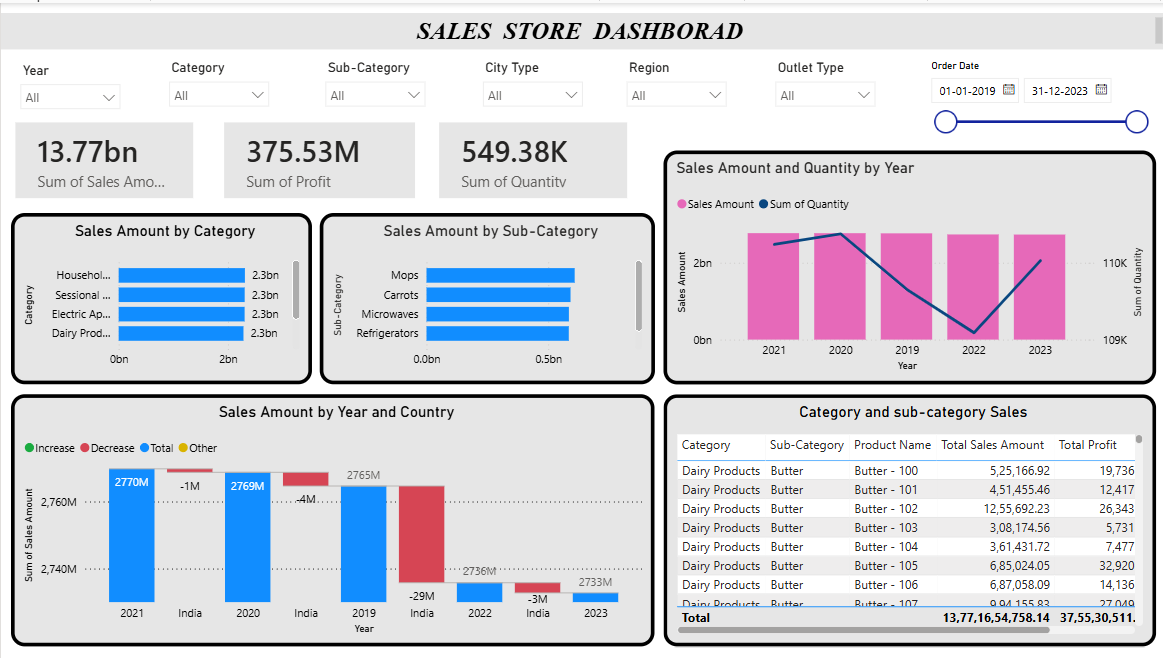

Layout of this report page (visuals, bound fields, positions):
{"tool":"powerbi","page":{"name":"Page 1","canvas":[1280,720],"ordinal":0},"visuals":[{"type":"textbox","box":[0,11,1280.3,39.8],"z":0},{"type":"cardVisual","fields":{"Data":["Sum(store_sales_data (2).Sales Amount)"]},"box":[11,126.2,205.8,93.3],"z":1000},{"type":"tableEx","title":"Category and sub-category Sales","fields":{"Values":["cleaned_stored_sales_data.Category of Goods","cleaned_stored_sales_data.Sub-Category","cleaned_stored_sales_data.Product Name","Sum(cleaned_stored_sales_data.Sales Amount)","Sum(cleaned_stored_sales_data.Profit)","Sum(cleaned_stored_sales_data.Quantity)"]},"box":[727.3,429.5,540.7,277.2],"z":2000},{"type":"waterfallChart","title":"Sales Amount by Year and Country","fields":{"Y":["Sum(cleaned_stored_sales_data.Sales Amount)"],"Category":["cleaned_stored_sales_data.Year"],"Breakdown":["cleaned_stored_sales_data.Country"]},"box":[11,429.5,706.7,277.2],"z":3000},{"type":"barChart","title":"Sales Amount by Category","fields":{"Y":["Sum(cleaned_stored_sales_data.Sales Amount)"],"Category":["cleaned_stored_sales_data.Category of Goods"]},"box":[11,230.5,330.7,188],"z":4000},{"type":"lineClusteredColumnComboChart","title":"Sales Amount and Quantity by Year","fields":{"Category":["cleaned_stored_sales_data.Year"],"Y":["Sum(cleaned_stored_sales_data.Sales Amount)"],"Y2":["Sum(cleaned_stored_sales_data.Quantity)"]},"box":[727.3,161.9,540.7,256.6],"z":5000},{"type":"cardVisual","fields":{"Data":["Sum(cleaned_stored_sales_data.Profit)"]},"box":[240.1,126.2,219.6,93.3],"z":6000},{"type":"cardVisual","fields":{"Data":["Sum(cleaned_stored_sales_data.Quantity)"]},"box":[476.2,126.2,216.8,93.3],"z":7000},{"type":"slicer","fields":{"Values":["cleaned_stored_sales_data.Year"]},"box":[11,60.4,130,65.9],"z":8000},{"type":"slicer","fields":{"Values":["cleaned_stored_sales_data.Category of Goods"]},"box":[174.3,57.6,130,65],"z":9000},{"type":"slicer","fields":{"Values":["cleaned_stored_sales_data.Sub-Category"]},"box":[345.8,57.6,130,65],"z":10000},{"type":"slicer","fields":{"Values":["cleaned_stored_sales_data.City Type"]},"box":[518.7,57.6,130,65],"z":11000},{"type":"slicer","fields":{"Values":["cleaned_stored_sales_data.Region"]},"box":[676.5,57.6,130,65],"z":12000},{"type":"slicer","fields":{"Values":["cleaned_stored_sales_data.Outlet Type"]},"box":[839.8,57.6,130,65],"z":13000},{"type":"slicer","fields":{"Values":["cleaned_stored_sales_data.Order Date"]},"box":[1008.6,57.6,259.3,94.7],"z":14000},{"type":"barChart","title":"Sales Amount by Sub-Category","fields":{"Category":["cleaned_stored_sales_data.Sub-Category"],"Y":["Sum(cleaned_stored_sales_data.Sales Amount)"]},"box":[349.9,230.5,367.8,188],"z":15000}]}

Visuals, with their boxes in screenshot pixels (x1, y1, x2, y2), scaled from the page's 1280x720 canvas onto the 1163x658 screenshot:
textbox: 0:10:1162:46
cardVisual - Sum(store_sales_data (2).Sales Amount): 10:115:197:201
"Category and sub-category Sales" tableEx: 661:393:1152:646
"Sales Amount by Year and Country" waterfallChart: 10:393:652:646
"Sales Amount by Category" barChart: 10:211:310:382
"Sales Amount and Quantity by Year" lineClusteredColumnComboChart: 661:148:1152:382
cardVisual - Sum(cleaned_stored_sales_data.Profit): 218:115:418:201
cardVisual - Sum(cleaned_stored_sales_data.Quantity): 433:115:630:201
slicer - cleaned_stored_sales_data.Year: 10:55:128:115
slicer - cleaned_stored_sales_data.Category of Goods: 158:53:276:112
slicer - cleaned_stored_sales_data.Sub-Category: 314:53:432:112
slicer - cleaned_stored_sales_data.City Type: 471:53:589:112
slicer - cleaned_stored_sales_data.Region: 615:53:733:112
slicer - cleaned_stored_sales_data.Outlet Type: 763:53:881:112
slicer - cleaned_stored_sales_data.Order Date: 916:53:1152:139
"Sales Amount by Sub-Category" barChart: 318:211:652:382
